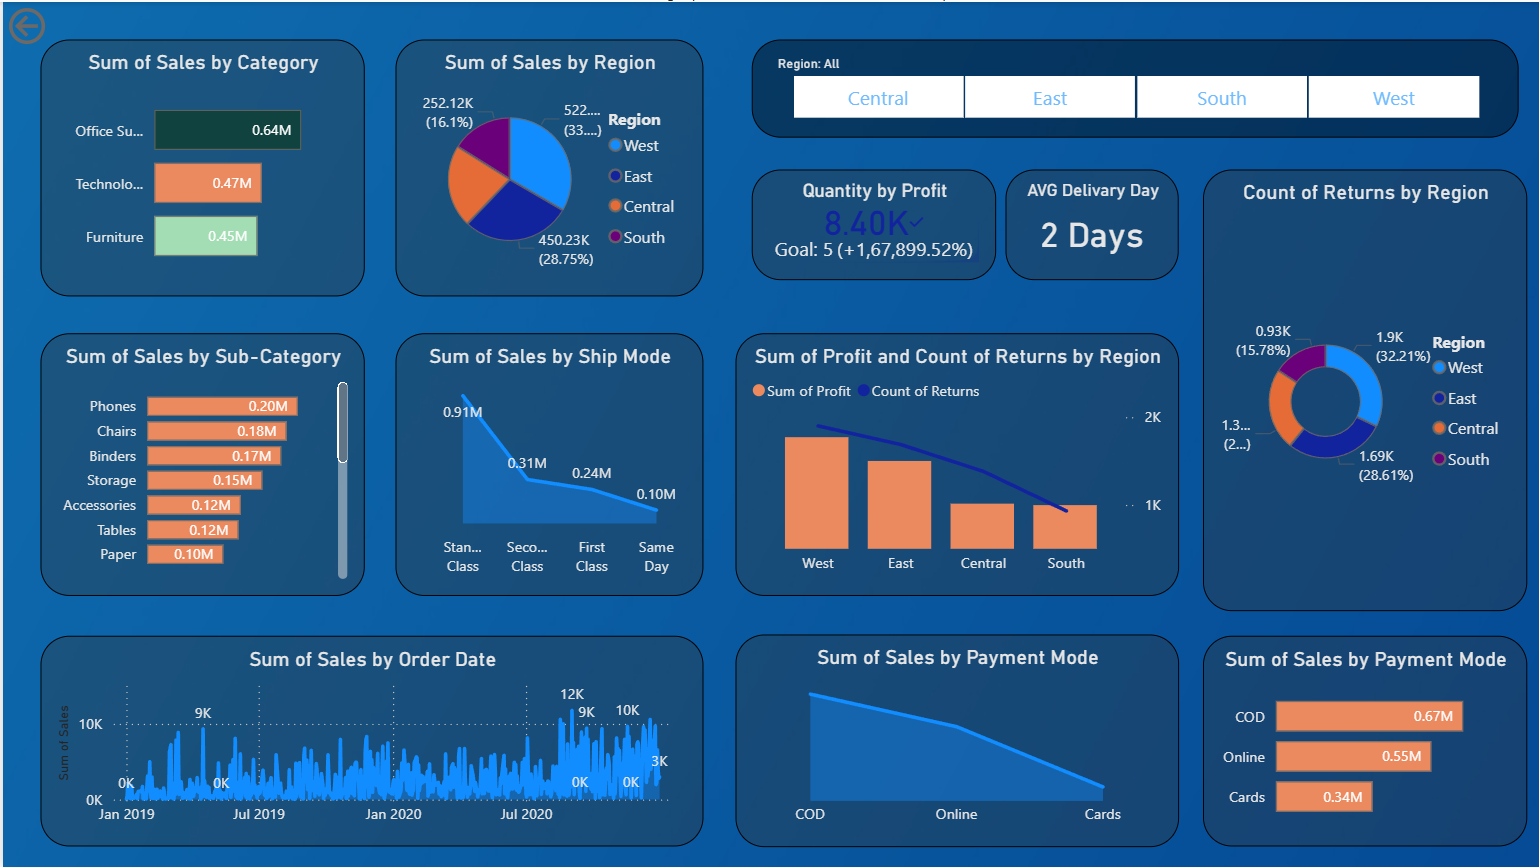

What the dashboard file says about the page in this screenshot:
{"tool":"powerbi","page":{"name":"Page 1","canvas":[1280,720],"ordinal":0},"visuals":[{"type":"clusteredBarChart","fields":{"Category":["SuperStore_Sales_Dataset.Category"],"Y":["Sum(SuperStore_Sales_Dataset.Sales)"]},"box":[31.4,31.4,269.8,214],"z":0},{"type":"pieChart","fields":{"Y":["Sum(SuperStore_Sales_Dataset.Sales)"],"Category":["SuperStore_Sales_Dataset.Region"]},"box":[326.7,31.4,255.8,214],"z":1000},{"type":"clusteredBarChart","fields":{"Category":["SuperStore_Sales_Dataset.Sub-Category"],"Y":["Sum(SuperStore_Sales_Dataset.Sales)"]},"box":[31.4,275.6,269.8,218.6],"z":2000},{"type":"slicer","fields":{"Values":["SuperStore_Sales_Dataset.Region"]},"box":[622.1,31.4,637.2,81.4],"z":3000},{"type":"actionButton","box":[0,0,100,40],"z":4000},{"type":"areaChart","fields":{"Category":["SuperStore_Sales_Dataset.Ship Mode"],"Y":["Sum(SuperStore_Sales_Dataset.Sales)"]},"box":[326.7,275.6,255.8,218.6],"z":5000},{"type":"areaChart","fields":{"Y":["Sum(SuperStore_Sales_Dataset.Sales)"],"Category":["SuperStore_Sales_Dataset.Order Date"]},"box":[31.4,526.7,551.2,175.6],"z":6000},{"type":"lineClusteredColumnComboChart","fields":{"Y":["Sum(SuperStore_Sales_Dataset.Profit)"],"Category":["SuperStore_Sales_Dataset.Region"],"Y2":["CountNonNull(SuperStore_Sales_Dataset.Returns)"]},"box":[609.3,275.6,368.6,218.6],"z":7000},{"type":"kpi","title":"Quantity by Profit","fields":{"TrendLine":["SuperStore_Sales_Dataset.Profit"],"Indicator":["Sum(SuperStore_Sales_Dataset.Profit)"],"Goal":["Sum(SuperStore_Sales_Dataset.Quantity)"]},"box":[622.1,139.5,203.5,91.9],"z":8000},{"type":"areaChart","fields":{"Y":["Sum(SuperStore_Sales_Dataset.Sales)"],"Category":["SuperStore_Sales_Dataset.Payment Mode"]},"box":[609.3,525.6,368.6,176.7],"z":9000},{"type":"clusteredBarChart","fields":{"Y":["Sum(SuperStore_Sales_Dataset.Sales)"],"Category":["SuperStore_Sales_Dataset.Payment Mode"]},"box":[997.7,526.7,269.8,175.6],"z":10000},{"type":"donutChart","fields":{"Category":["SuperStore_Sales_Dataset.Region"],"Y":["CountNonNull(SuperStore_Sales_Dataset.Returns)"]},"box":[997.7,139.5,269.8,367.4],"z":11000},{"type":"kpi","title":"AVG Delivary Day","fields":{"Indicator":["SuperStore_Sales_Dataset.Average delivary day"],"TrendLine":["SuperStore_Sales_Dataset.City"]},"box":[833.7,139.5,144.2,91.9],"z":12000}]}

Visuals, with their boxes in screenshot pixels (x1, y1, x2, y2), scaled from the page's 1280x720 canvas onto the 1539x867 screenshot:
clusteredBarChart - SuperStore_Sales_Dataset.Category x Sum(SuperStore_Sales_Dataset.Sales): l=38, t=38, r=362, b=296
pieChart - Sum(SuperStore_Sales_Dataset.Sales) x SuperStore_Sales_Dataset.Region: l=393, t=38, r=700, b=296
clusteredBarChart - SuperStore_Sales_Dataset.Sub-Category x Sum(SuperStore_Sales_Dataset.Sales): l=38, t=332, r=362, b=595
slicer - SuperStore_Sales_Dataset.Region: l=748, t=38, r=1514, b=136
actionButton: l=0, t=0, r=120, b=48
areaChart - SuperStore_Sales_Dataset.Ship Mode x Sum(SuperStore_Sales_Dataset.Sales): l=393, t=332, r=700, b=595
areaChart - Sum(SuperStore_Sales_Dataset.Sales) x SuperStore_Sales_Dataset.Order Date: l=38, t=634, r=700, b=846
lineClusteredColumnComboChart - Sum(SuperStore_Sales_Dataset.Profit) x SuperStore_Sales_Dataset.Region: l=733, t=332, r=1176, b=595
"Quantity by Profit" kpi: l=748, t=168, r=993, b=279
areaChart - Sum(SuperStore_Sales_Dataset.Sales) x SuperStore_Sales_Dataset.Payment Mode: l=733, t=633, r=1176, b=846
clusteredBarChart - Sum(SuperStore_Sales_Dataset.Sales) x SuperStore_Sales_Dataset.Payment Mode: l=1200, t=634, r=1524, b=846
donutChart - SuperStore_Sales_Dataset.Region x CountNonNull(SuperStore_Sales_Dataset.Returns): l=1200, t=168, r=1524, b=610
"AVG Delivary Day" kpi: l=1002, t=168, r=1176, b=279
